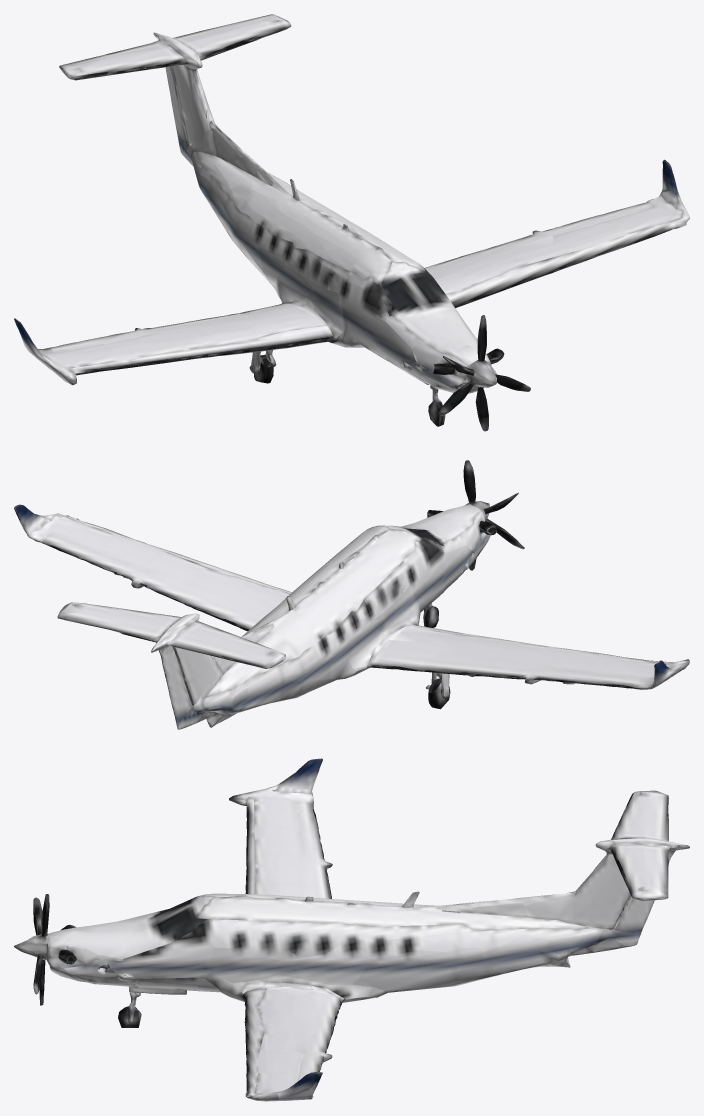
The picture shows the model from 3 angles, top to bottom: view 1: azimuth 30°, elevation 25°; view 2: azimuth 150°, elevation 25°; view 3: azimuth 270°, elevation 25°; orthographic projection.
Parts seen in each view (by area): view 1: LO; view 2: LO; view 3: LO.
Boxes of the visible parts, bbox=[...] form: LO: bbox=[14, 14, 689, 431]; LO: bbox=[14, 460, 689, 729]; LO: bbox=[14, 758, 689, 1101].
Bounding box in the file's own units: 16.26 × 4.57 × 14.79.
Materials: 1 (1 with a texture image).
